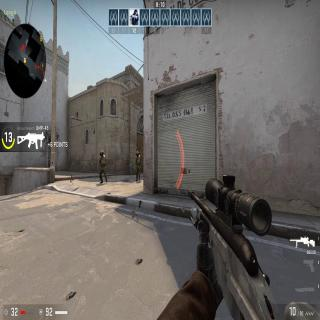CT-Body: (97, 148, 107, 182), (133, 148, 142, 184)
CT-Head: (100, 150, 104, 155), (136, 151, 139, 157)
